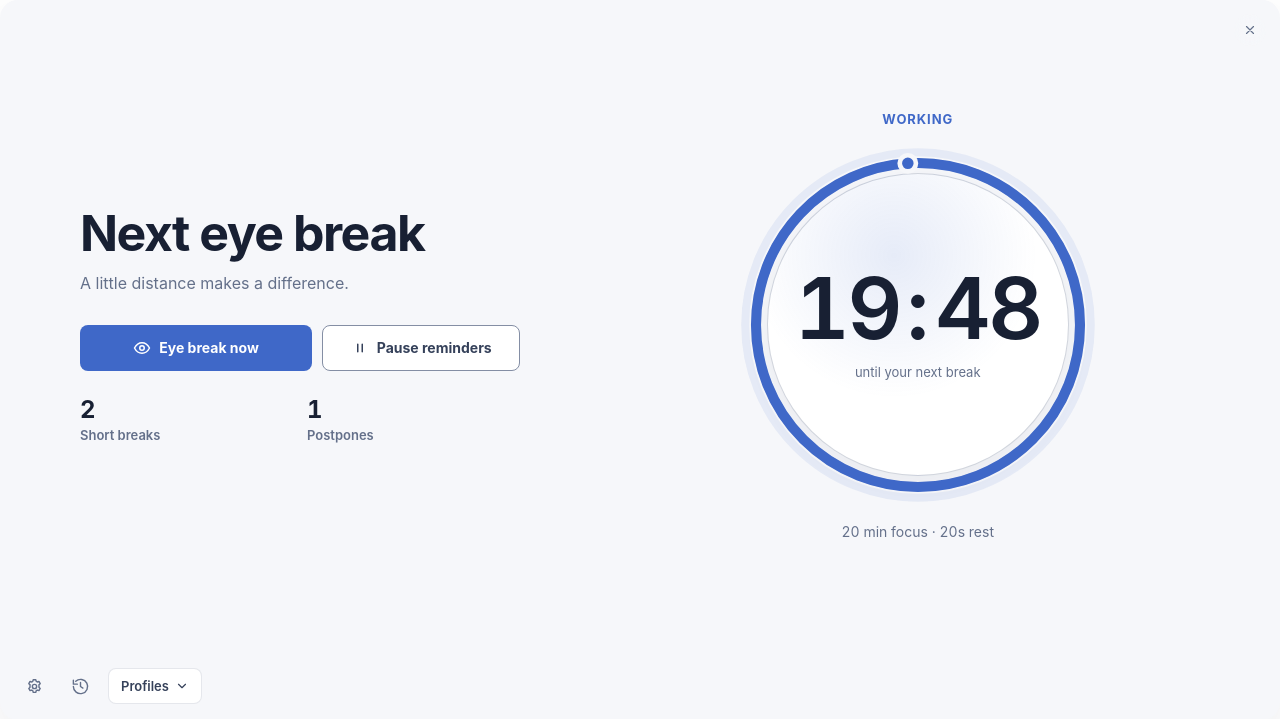
Test: PausIO app experience › announces the save status to screen readers instead of hiding it with aria-hidden
Expected: the heading "Next eye break" is shown, [80, 203, 424, 263]
Click the button named "Settings" at (34, 686), box [16, 668, 52, 704]
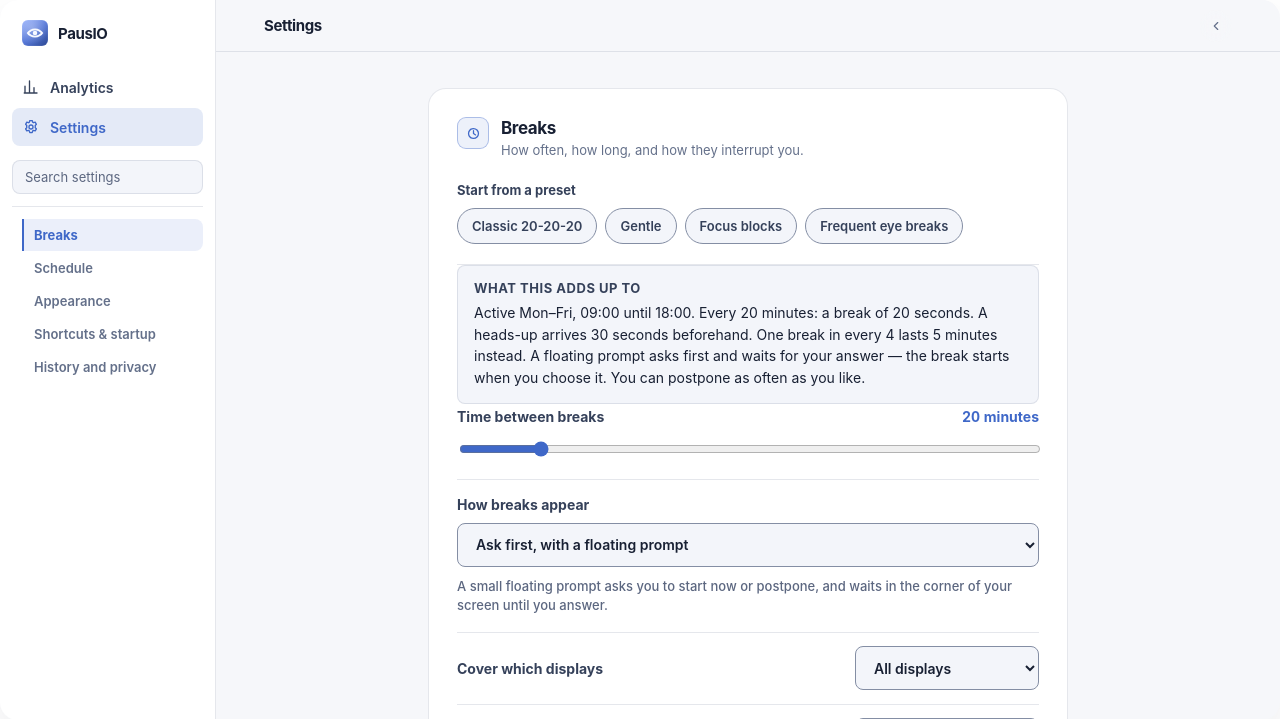
Set the slider named "Time between breaks" to "1800" at (590, 449), box [459, 441, 1041, 457]
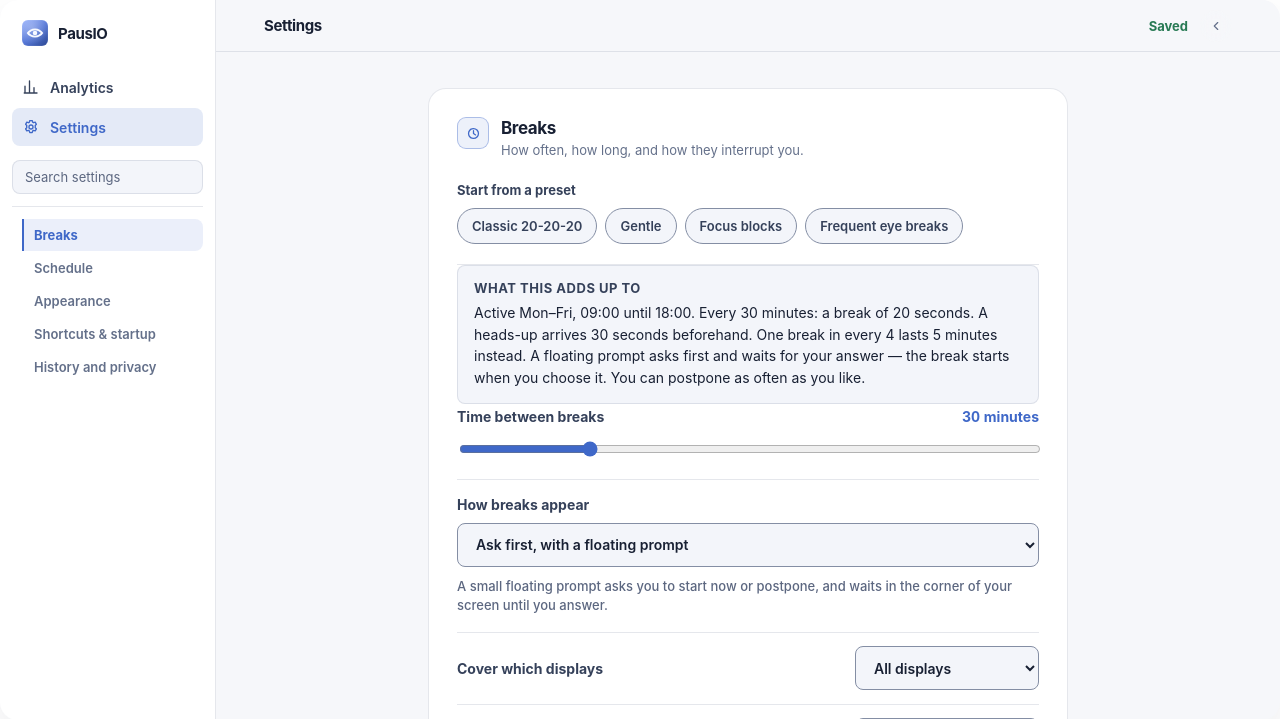
Expected: the message with class "settings-status" reads "Saved", [1149, 18, 1188, 34]
